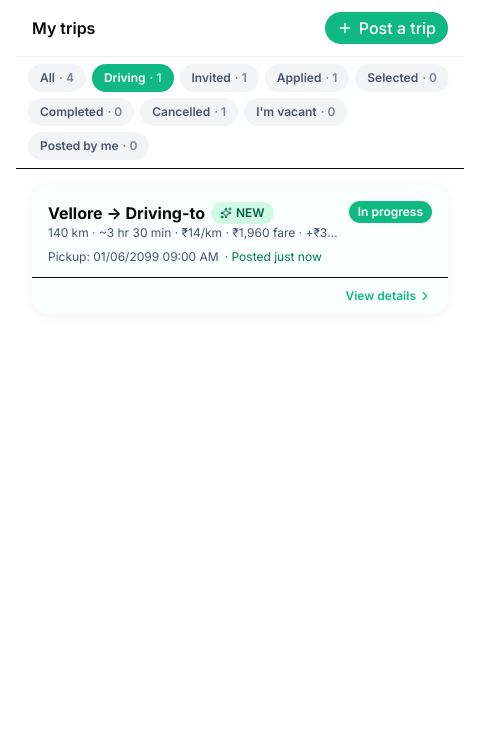
DriverActivityPage › All chip unions assigned + invited + applied and sorts by lifecycle priority
Click the button "All · 4".
click(57, 78)  # box 28,64 -> 86,92
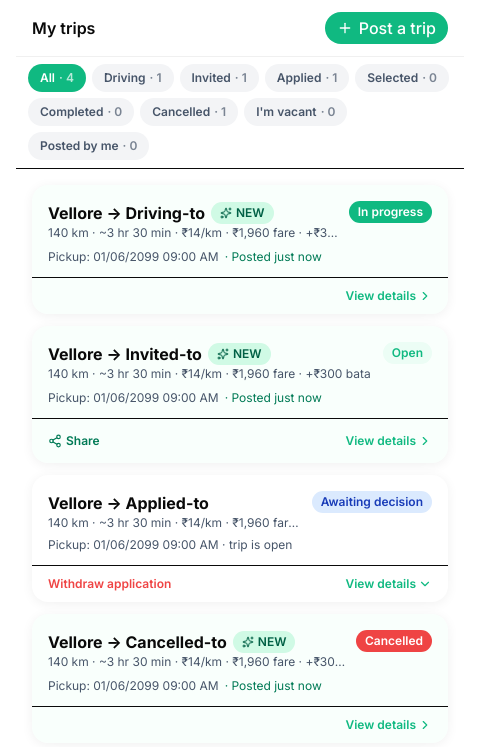
Expected: the text "Vellore → Invited-to" is shown, 48,342 -> 202,366
Expected: the text "Vellore → Applied-to" is shown, 48,493 -> 209,513
Expected: the text "Vellore → Cancelled-to" is shown, 48,630 -> 227,654
